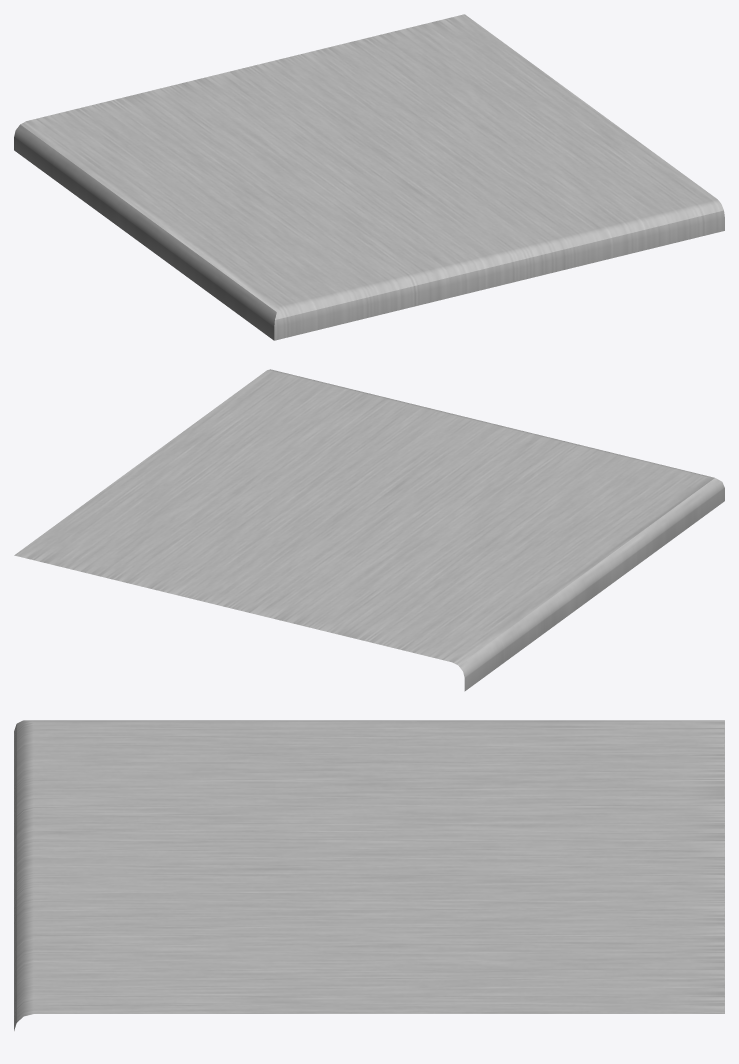
Rendered from Road_Concrete_Corner.fbx.
3 views of the same model, one above another, from view 1: azimuth 30°, elevation 25°; view 2: azimuth 150°, elevation 25°; view 3: azimuth 270°, elevation 25° (orthographic). The views are drawn at different scales.
Visible parts, largest first — view 1: polySurface4; view 2: polySurface4; view 3: polySurface4.
Boxes of the visible parts, <box> form: polySurface4: <box>14,14,724,340</box>; polySurface4: <box>14,369,724,691</box>; polySurface4: <box>14,720,724,1030</box>.
Size of the model in its own units: 18.03 by 1 by 18.03.
1 material, 1 textured.
